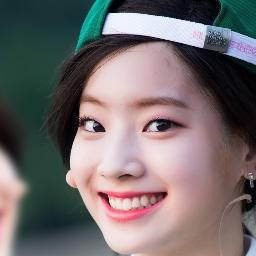face: (82, 62, 210, 248)
